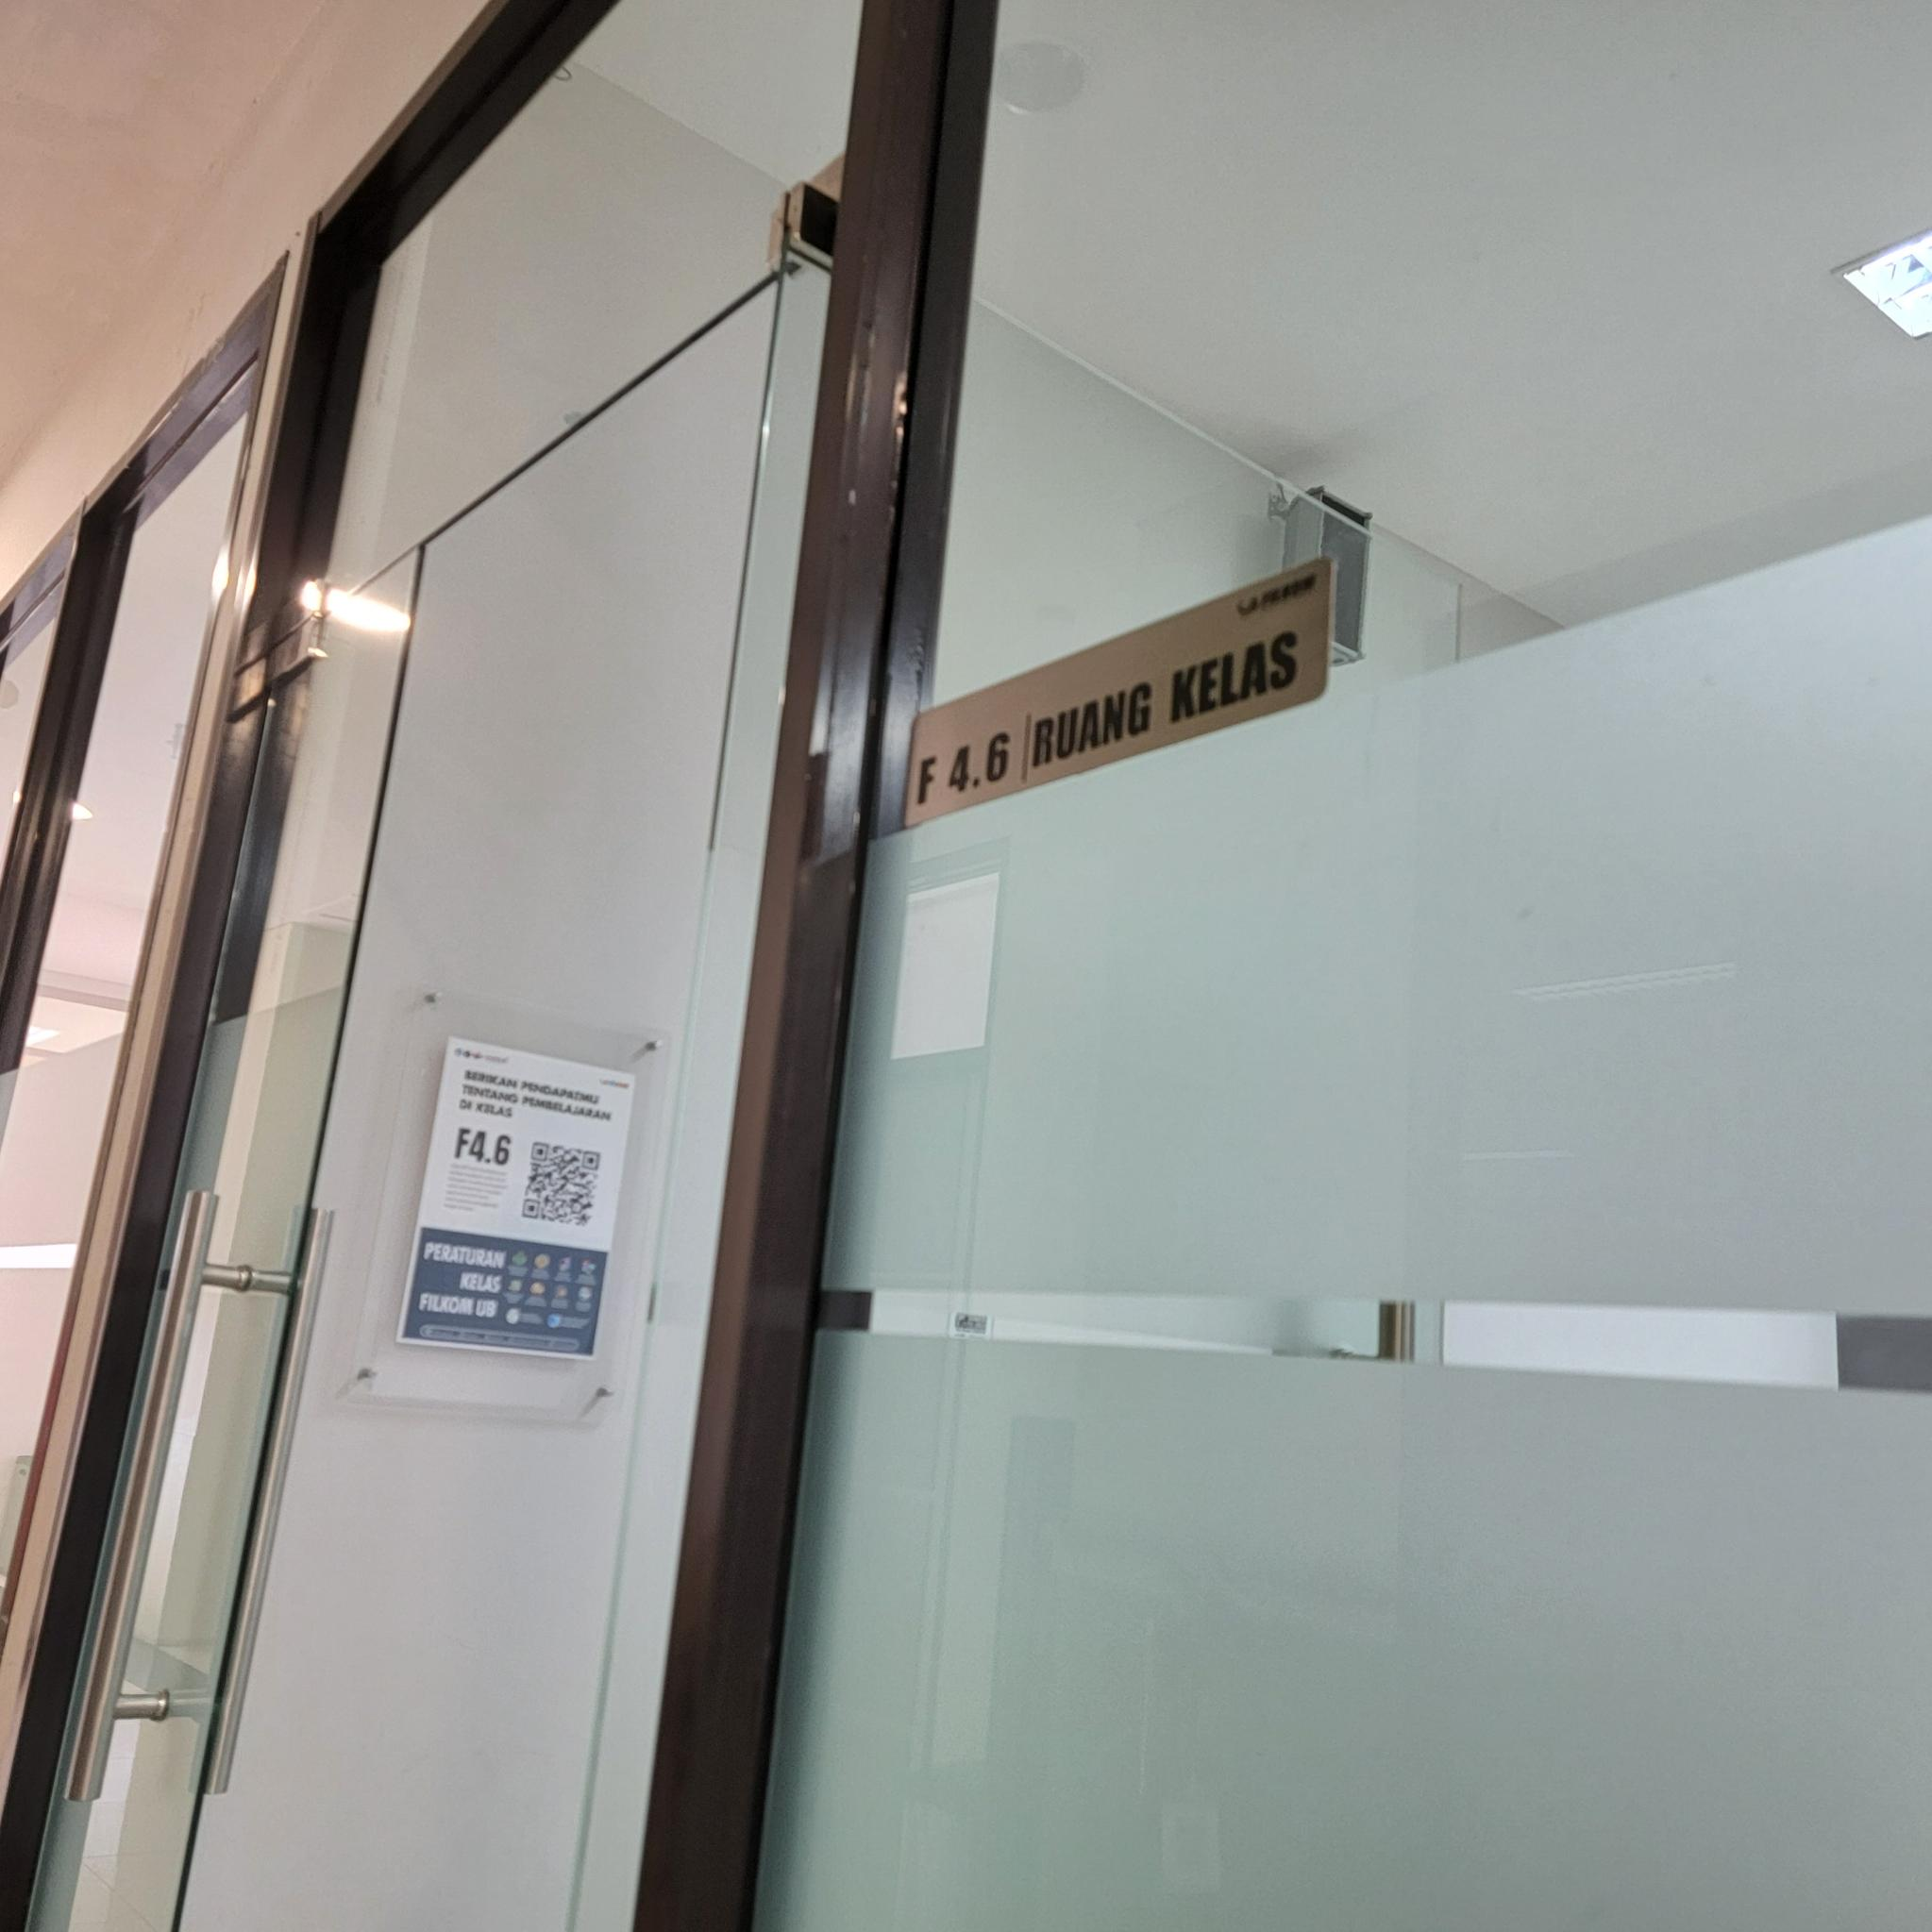plate: (904, 554, 1336, 830)
